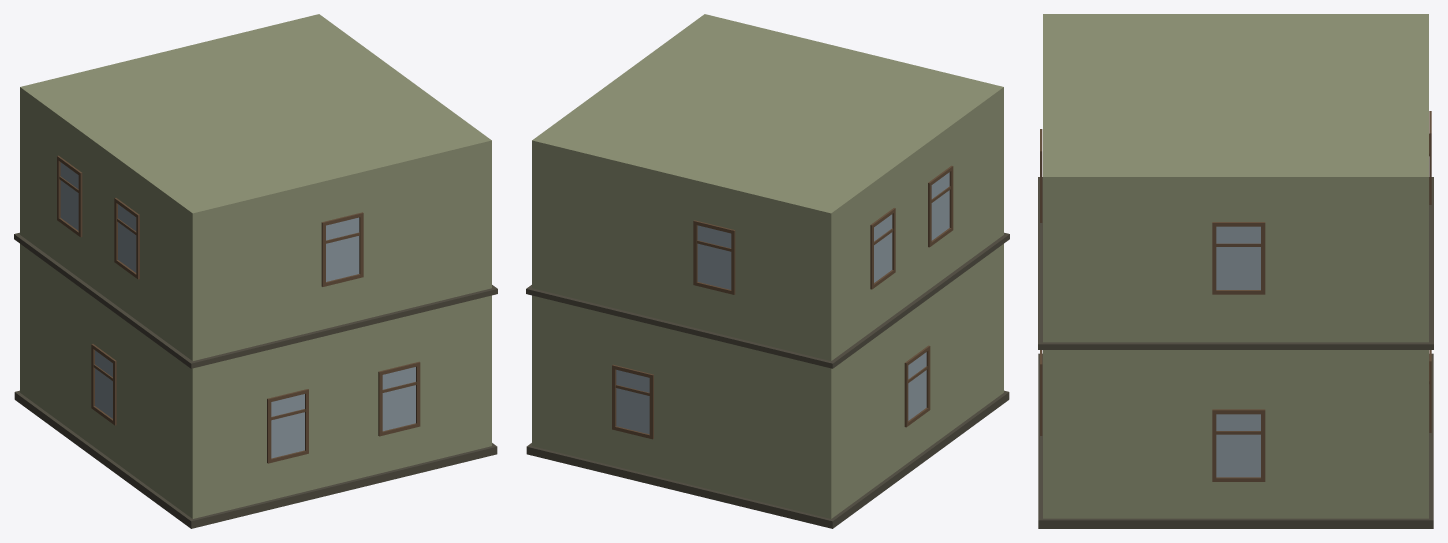
Rendered from BuildingSecondFloor.fbx.
3 renders of one model, left to right at view 1: azimuth 30°, elevation 25°; view 2: azimuth 150°, elevation 25°; view 3: azimuth 270°, elevation 25°, orthographic. The views are drawn at different scales.
Parts seen in each view (by area): view 1: Building; view 2: Building; view 3: Building.
Part boxes in pixels (box(x1,y1,x2,y2)): Building: box(14, 14, 497, 528); Building: box(526, 14, 1009, 528); Building: box(1038, 14, 1433, 528).
Size of the model in its own units: 820 by 800 by 820.
